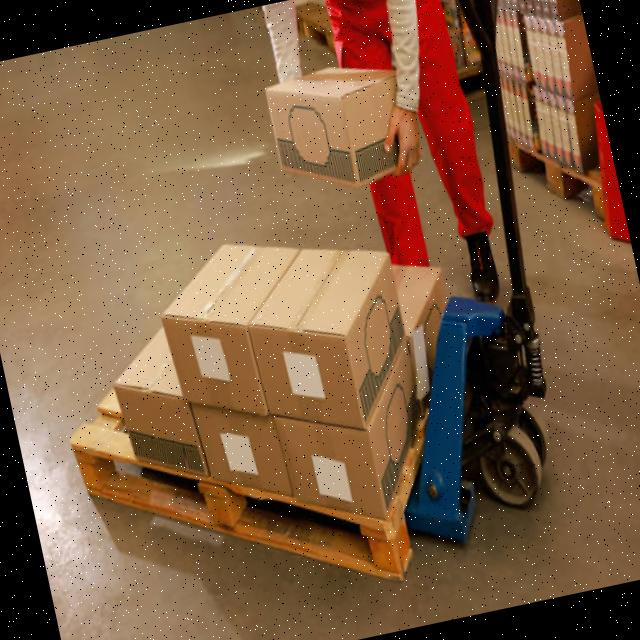Wooden-Pallets: (72, 446, 406, 582), (509, 132, 605, 231)
